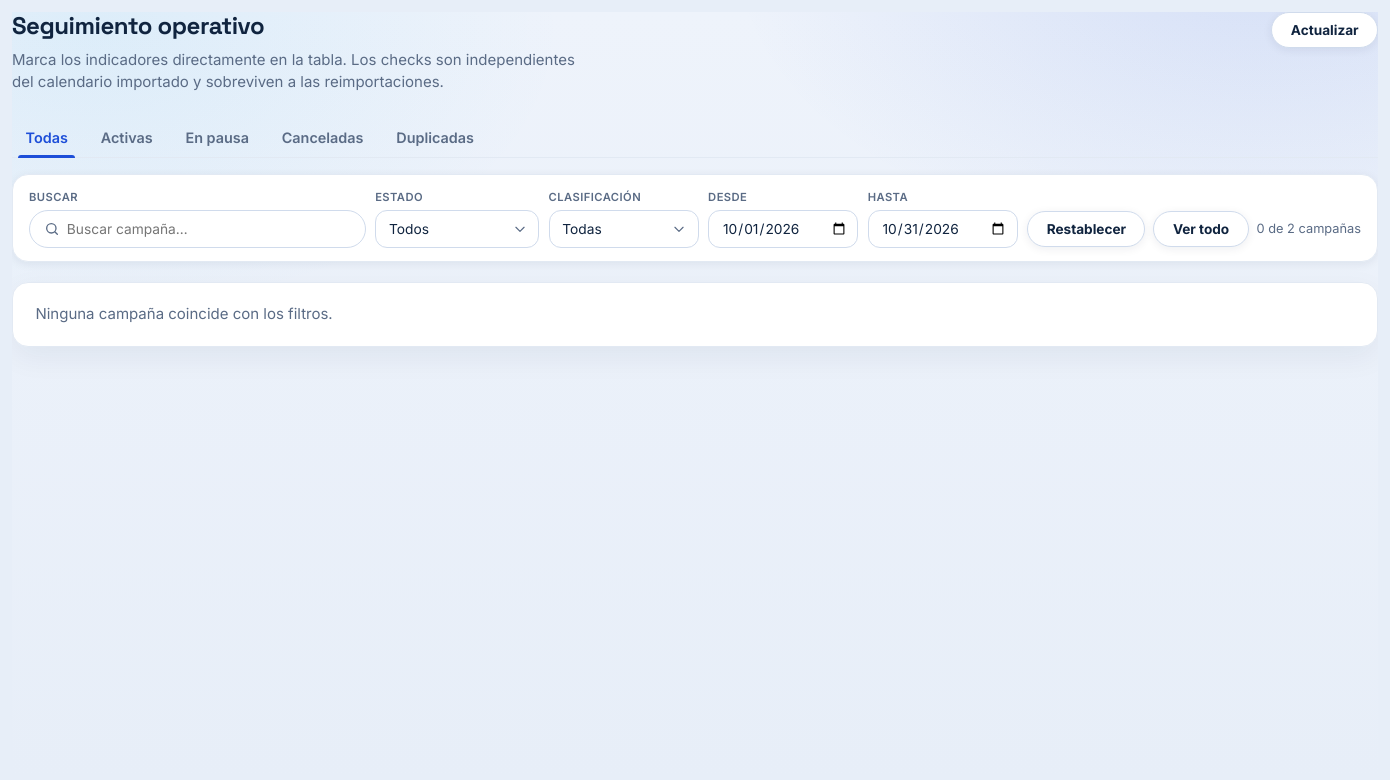
Test: OperationalTrackingPage › la campaña con tipo desconocido queda con clasificación pendiente
This screenshot has width=1390, height=780.
Click the button "Ver todo" at (1201, 229), box [1154, 211, 1248, 247]
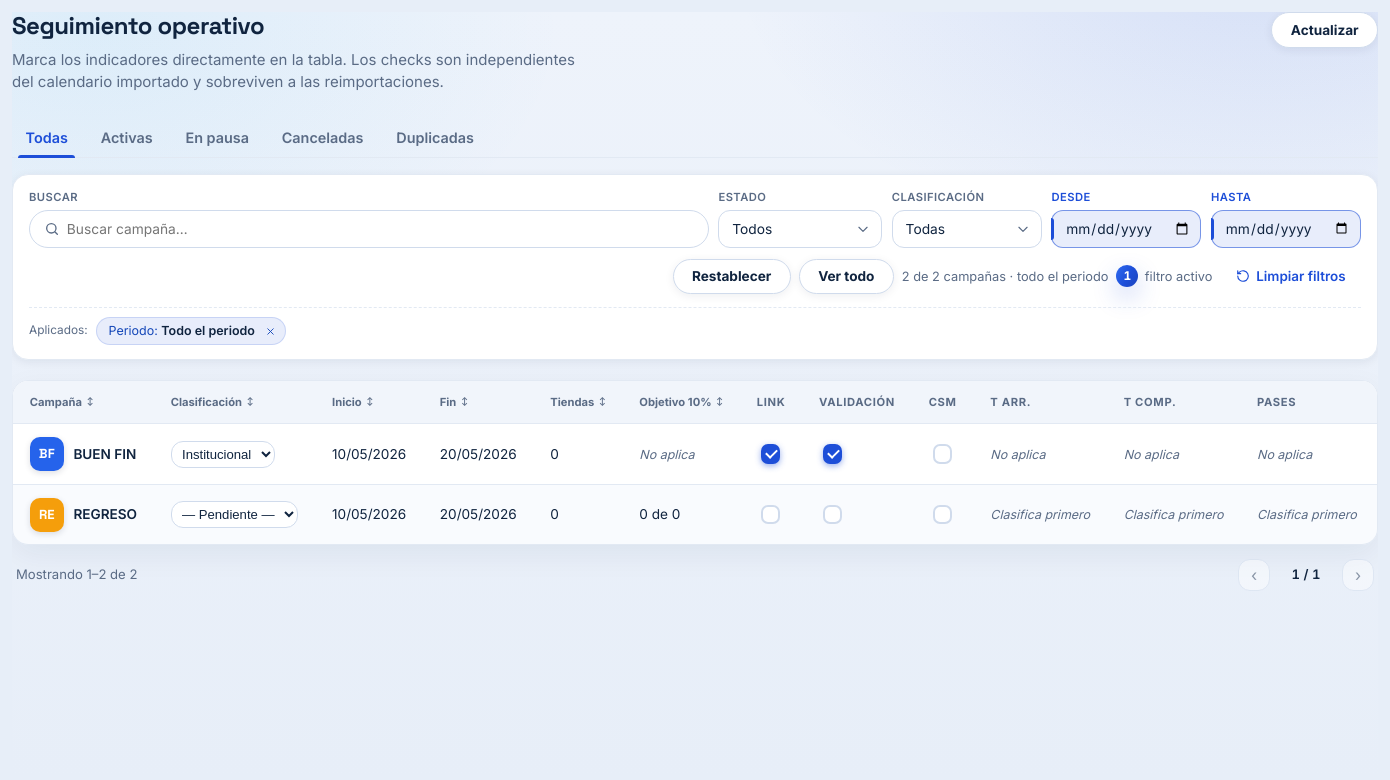
expect the text "REGRESO" is shown: met, box [73, 504, 137, 525]
expect the dropdown named "Clasificación de REGRESO" shows "— Pendiente —": met, box [171, 501, 298, 528]
